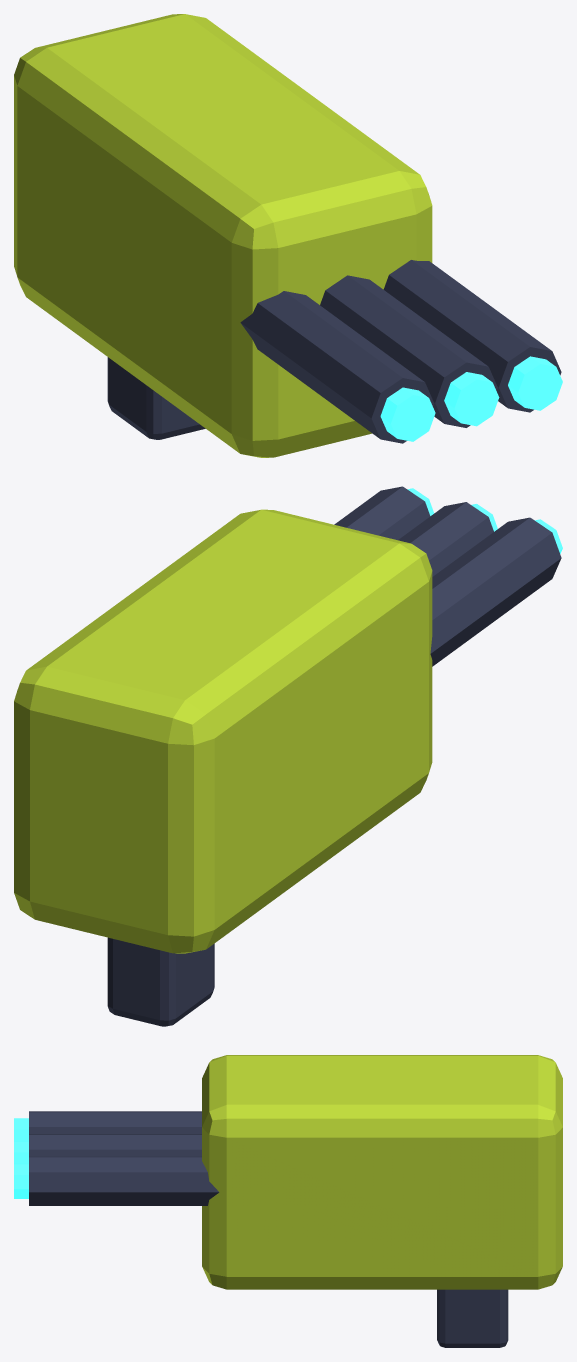
File: SM_Jinx_Minigun.fbx
The picture shows the model from 3 angles, top to bottom: view 1: azimuth 30°, elevation 25°; view 2: azimuth 150°, elevation 25°; view 3: azimuth 270°, elevation 25°; orthographic projection. The views are drawn at different scales.
Visible parts, largest first — view 1: SM_Jinx_Minigun; view 2: SM_Jinx_Minigun; view 3: SM_Jinx_Minigun.
Boxes of the visible parts, box(x1,y1,x2,y2) form: SM_Jinx_Minigun: box(14, 14, 562, 457); SM_Jinx_Minigun: box(14, 486, 562, 1026); SM_Jinx_Minigun: box(14, 1055, 562, 1347).
Bounding box in the file's own units: 22 × 73 × 38.
